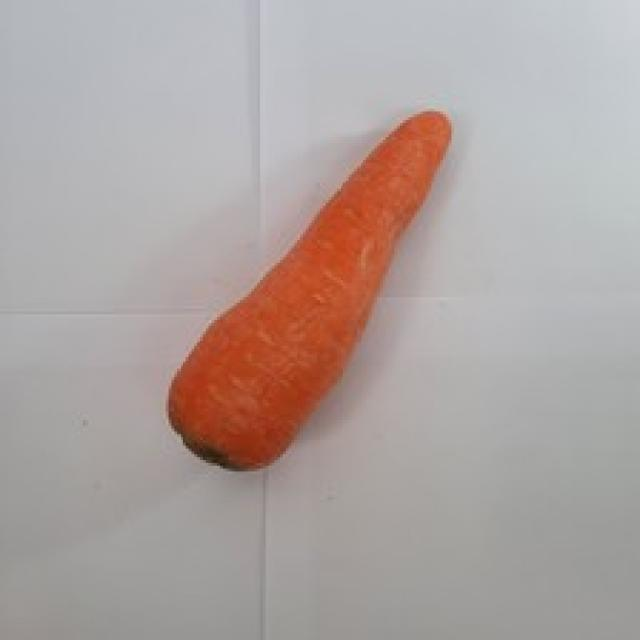Fresh_Carrot: (172, 111, 452, 477)
